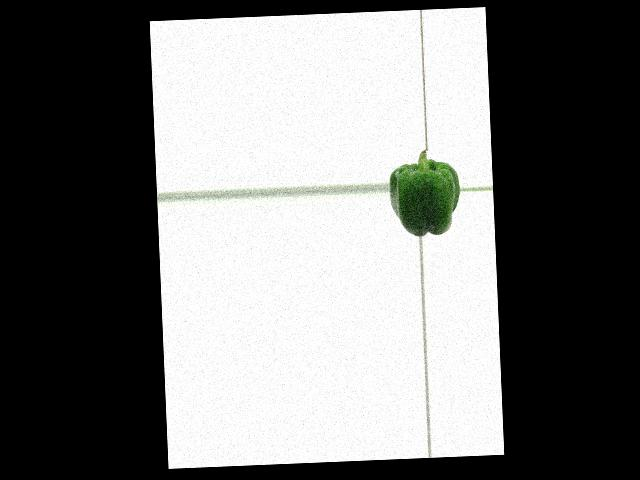bell_pepper: (389, 149, 461, 238)
